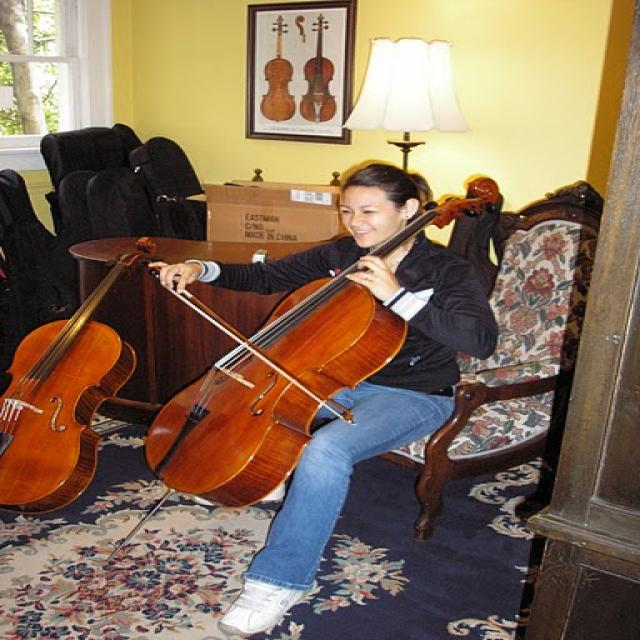cello: (151, 178, 506, 511), (0, 238, 153, 514)
violin: (300, 14, 341, 124), (257, 17, 298, 123)
